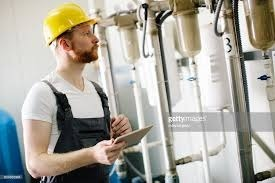helmet: (42, 3, 96, 42)
person with partial safety: (21, 5, 113, 176)
